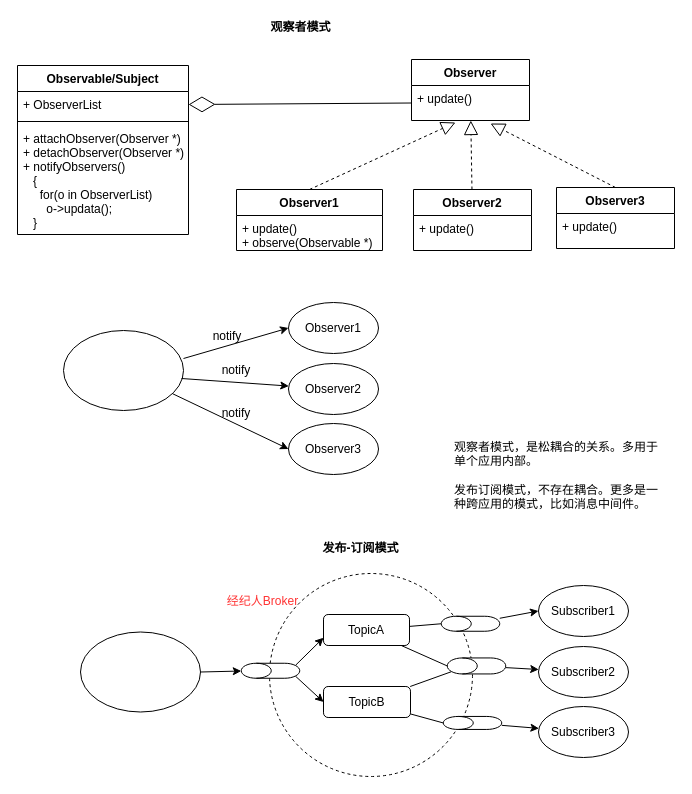
The diagram is 692 pixels wide and 794 high, and some of its shapes have lost their labels. Each missing label, with the centre of its shape:
Publisher: point 140,671
Subject: point 123,370
